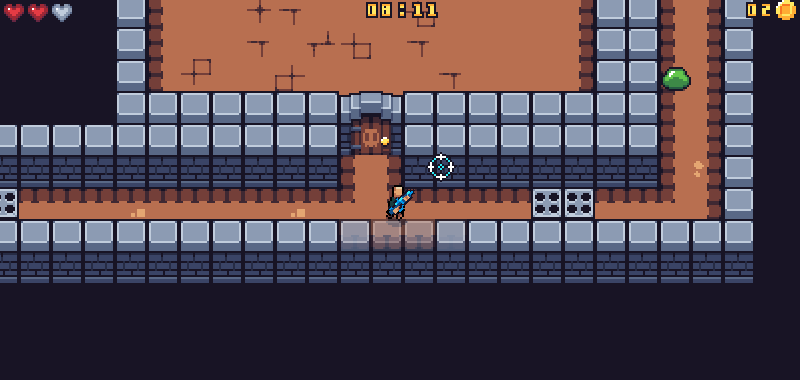door: (337, 86, 407, 158)
enemy_slug: (660, 65, 692, 93)
trap_off: (533, 186, 594, 219)
